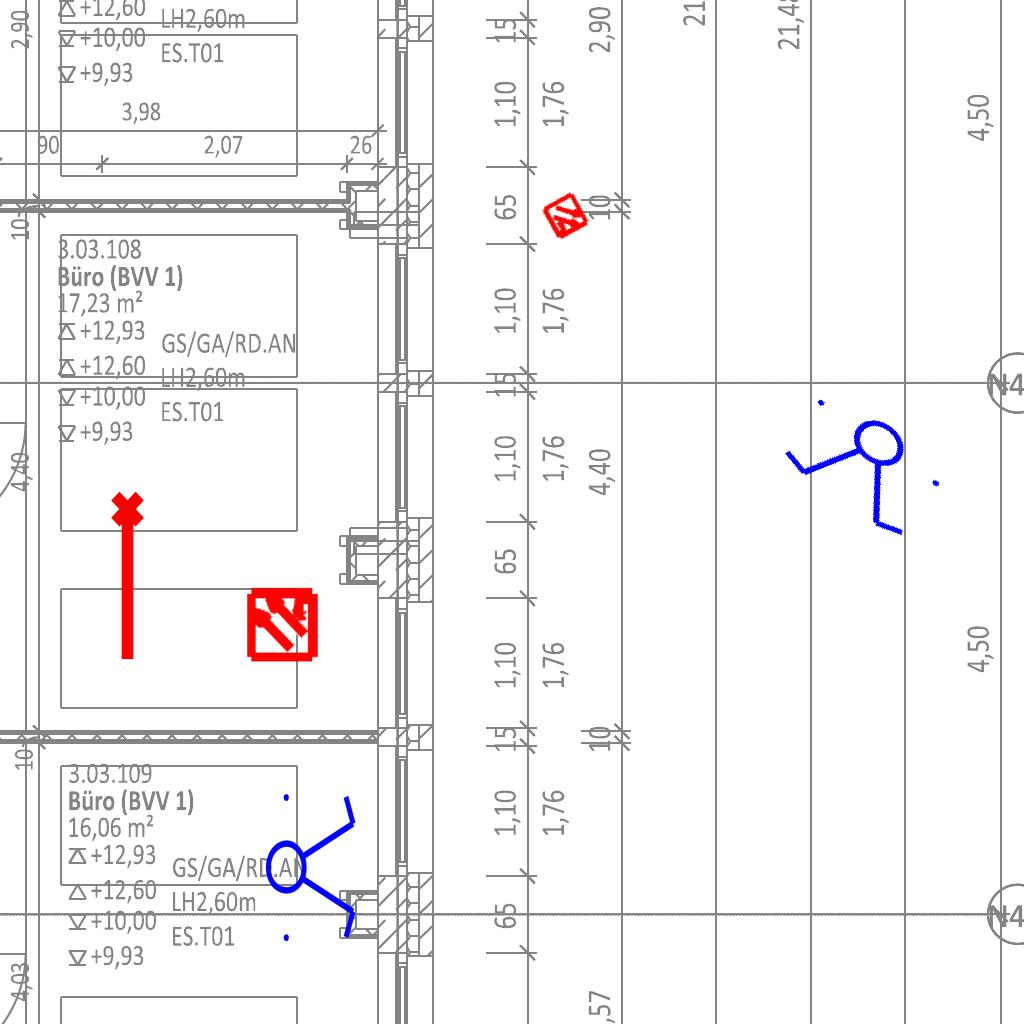ASR_Ansaugoeffnung: (107, 489, 153, 665)
OT_Multisensormelder_(Kombination_RMO_WMD): (226, 566, 339, 679), (527, 178, 605, 256)
Serienschalter: (768, 377, 962, 553), (264, 782, 360, 950)
